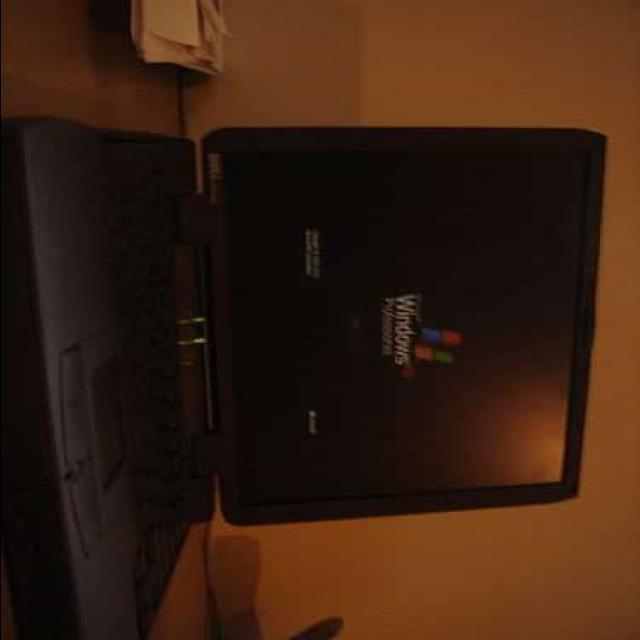laptop: (54, 142, 604, 510)
